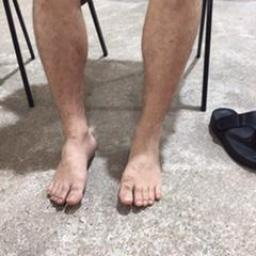Front View -Both Feet-: (41, 100, 178, 214)
